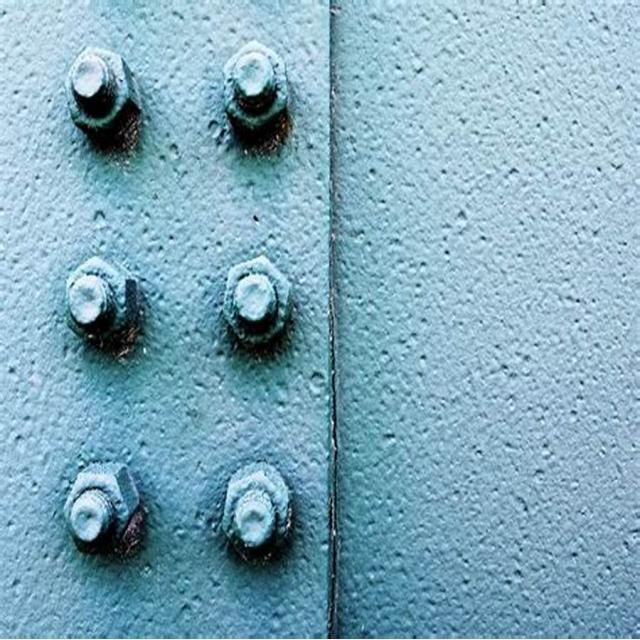bolt nut: (61, 252, 139, 356), (62, 459, 140, 560), (61, 42, 140, 141), (219, 464, 294, 568), (222, 256, 294, 352), (220, 42, 289, 138)
